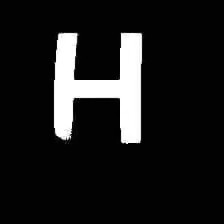LTR_H: (49, 23, 148, 148)
